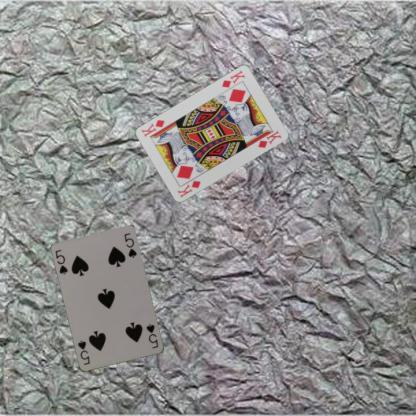5s: (52, 247, 70, 276), (144, 321, 160, 350)
Kd: (175, 178, 202, 200), (219, 68, 246, 90)
